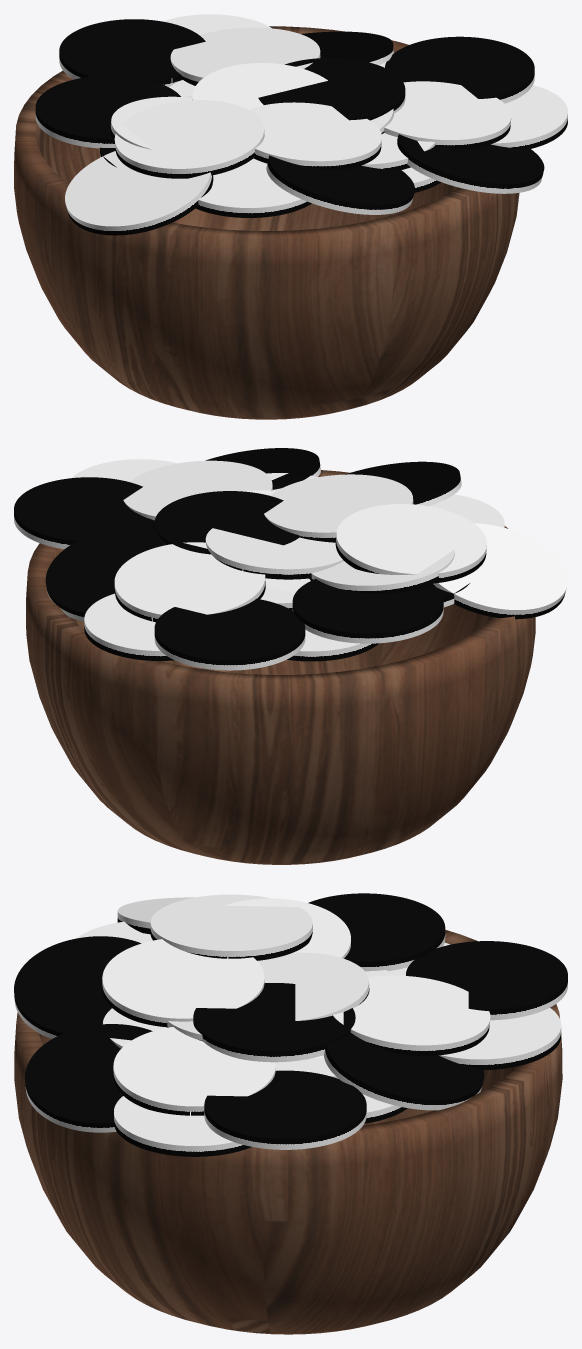
Rendered from bowl_and_chess.fbx.
3 renders of one model, top to bottom at view 1: azimuth 30°, elevation 25°; view 2: azimuth 150°, elevation 25°; view 3: azimuth 270°, elevation 25°, orthographic. The views are drawn at different scales.
Parts seen in each view (by area): view 1: chess.008_Cylinder.001; view 2: chess.008_Cylinder.001; view 3: chess.008_Cylinder.001.
Boxes of the visible parts, left/top/right/bottom form: chess.008_Cylinder.001: left=14, top=14, right=567, bottom=419; chess.008_Cylinder.001: left=14, top=448, right=567, bottom=864; chess.008_Cylinder.001: left=14, top=893, right=567, bottom=1334.
Size of the model in its own units: 391 by 209 by 354.
2 materials, 2 textured.
